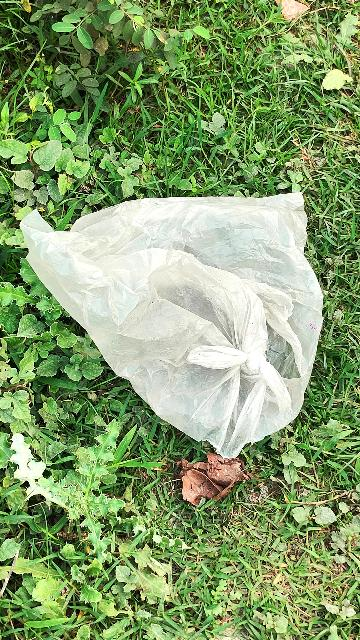polythene: (22, 194, 337, 438)
